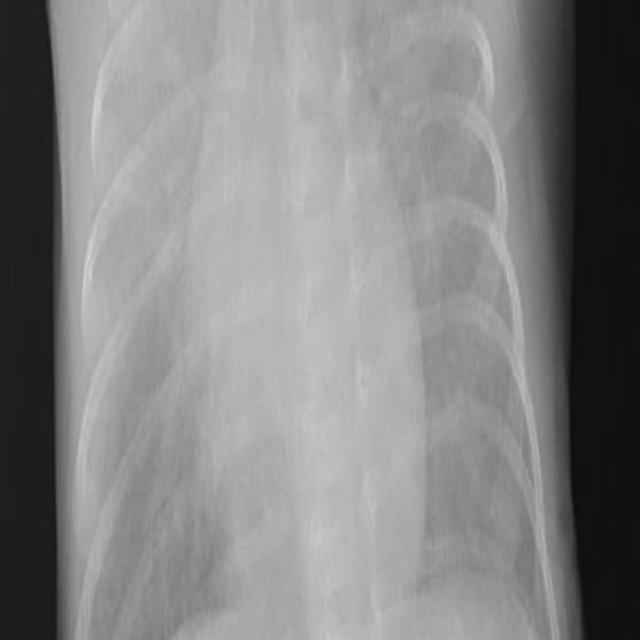high-pneumonia: (86, 5, 218, 453)
low-pneumonia: (361, 1, 498, 418)
